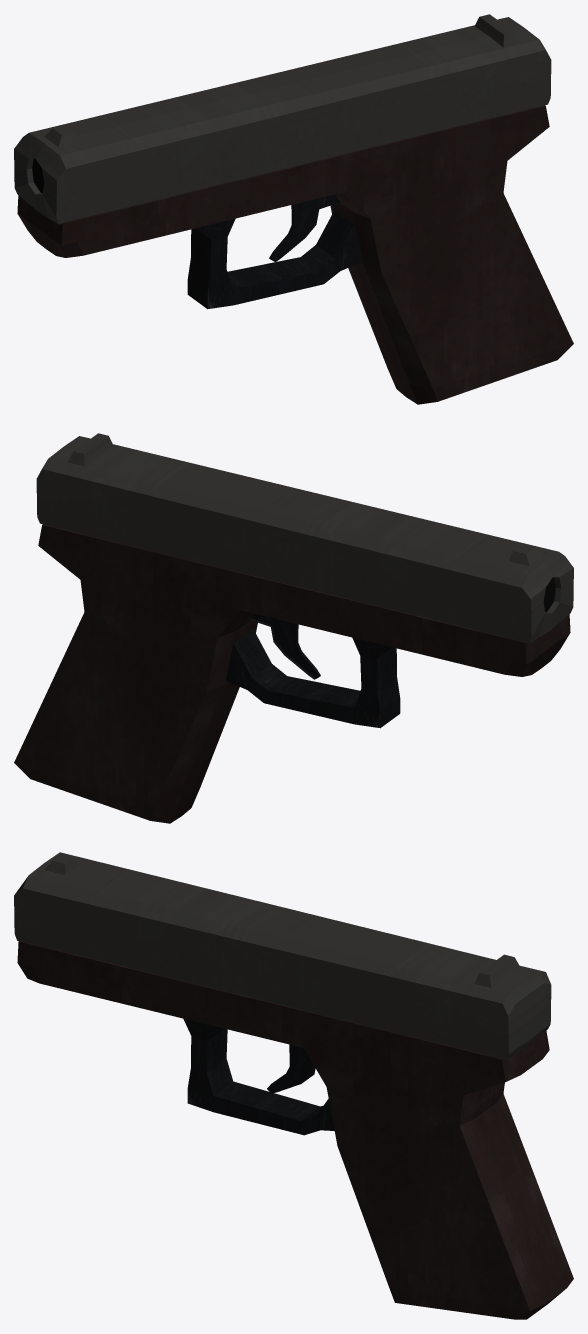
Rendered from Glock.glb.
3 views of the same model, one above another, from view 1: azimuth 30°, elevation 25°; view 2: azimuth 150°, elevation 25°; view 3: azimuth 330°, elevation 25° (orthographic).
Parts seen in each view (by area): view 1: Cube, Top, Trigger; view 2: Cube, Top, Trigger; view 3: Cube, Top, Trigger.
Boxes of the visible parts, bbox=[...] form: Cube: bbox=[17, 105, 573, 404]; Top: bbox=[14, 14, 551, 224]; Trigger: bbox=[269, 194, 340, 262]; Cube: bbox=[14, 524, 570, 823]; Top: bbox=[36, 433, 573, 643]; Trigger: bbox=[249, 613, 320, 679]; Cube: bbox=[17, 941, 573, 1319]; Top: bbox=[14, 852, 551, 1059]; Trigger: bbox=[267, 1044, 315, 1093].
Bounding box in the file's own units: 3.04 × 1.96 × 0.4448.
1 material, 1 textured.
